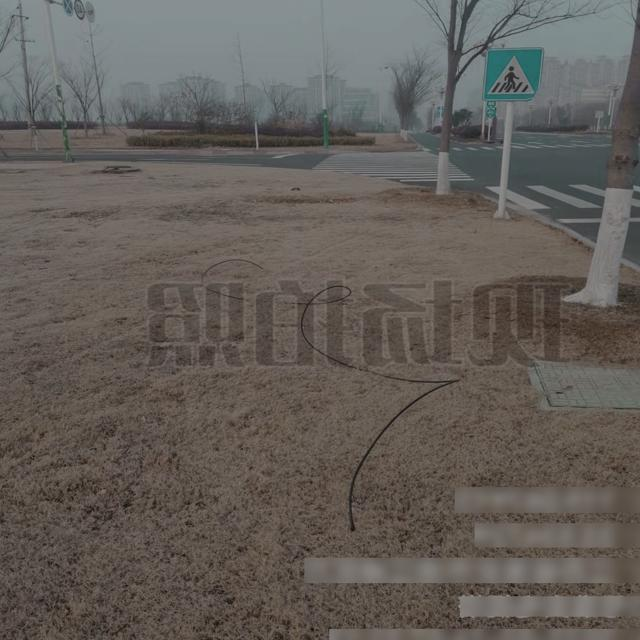good: (529, 356, 640, 415)
